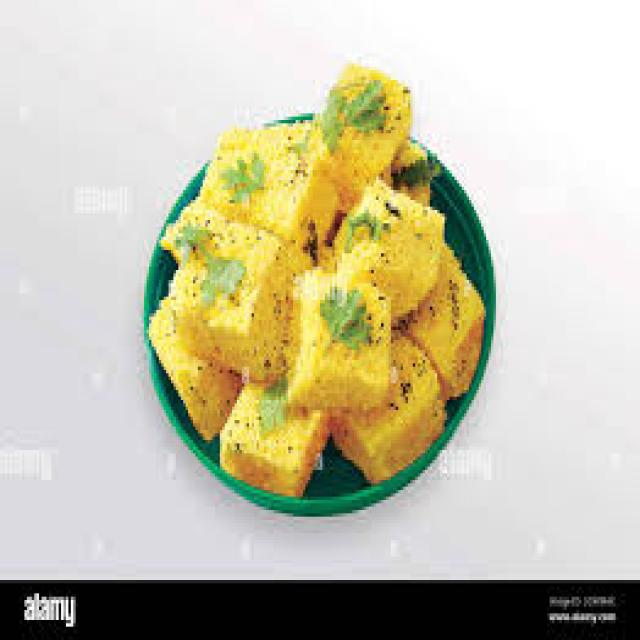DHOKLA: (176, 213, 311, 391), (201, 121, 338, 268), (338, 327, 448, 483), (151, 294, 248, 443), (286, 276, 392, 411), (339, 189, 441, 325), (319, 65, 414, 206), (225, 379, 330, 502), (405, 255, 487, 372)
